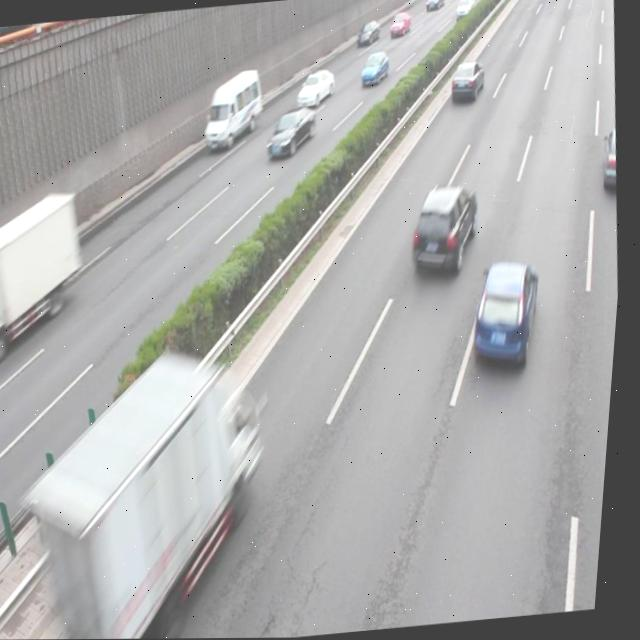bus: (26, 336, 286, 640), (0, 188, 100, 364)
car: (468, 256, 549, 375), (406, 179, 483, 277), (265, 103, 320, 160), (294, 67, 336, 109), (447, 58, 485, 104), (597, 128, 622, 193), (357, 48, 391, 89)
truck: (200, 66, 268, 148)
